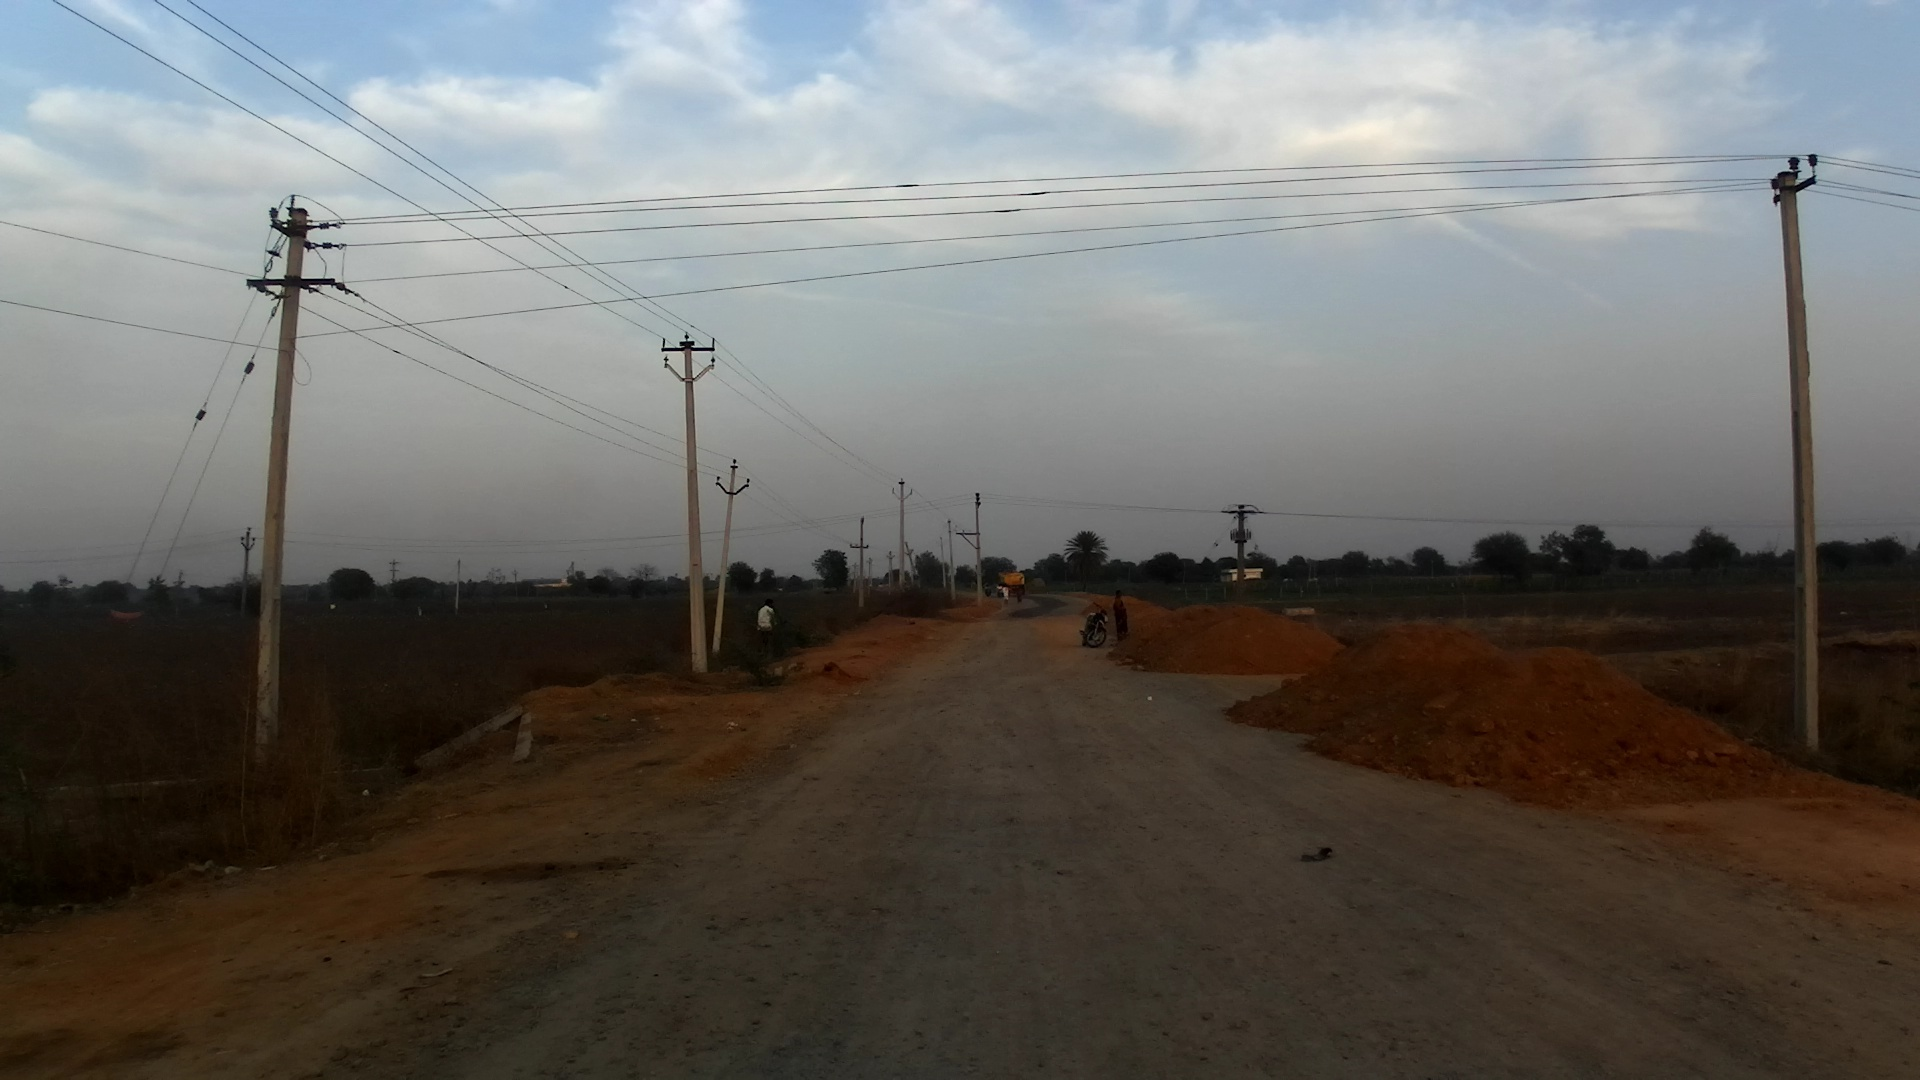motorcycle: (1077, 605, 1111, 652)
person: (754, 597, 780, 662), (1107, 590, 1129, 640), (1002, 581, 1013, 613), (1012, 582, 1025, 605)
truck: (997, 572, 1025, 601)
